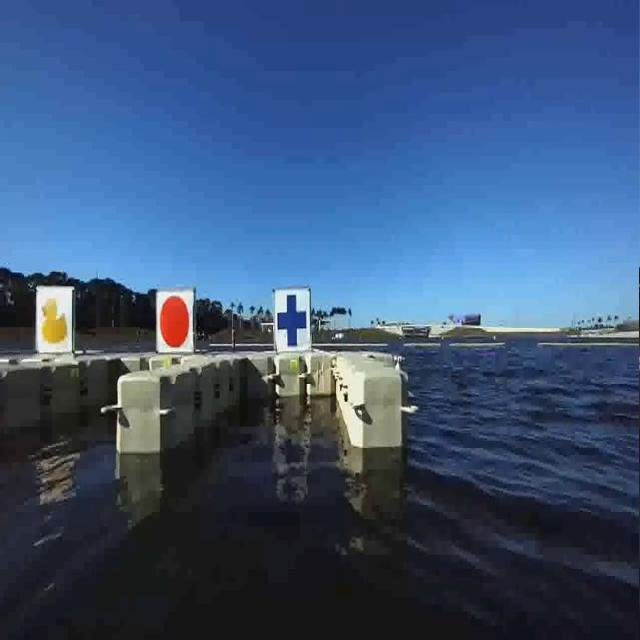blue-cross: (270, 282, 314, 357)
red-dot: (153, 288, 194, 356)
yellow-duck: (35, 284, 76, 356)
